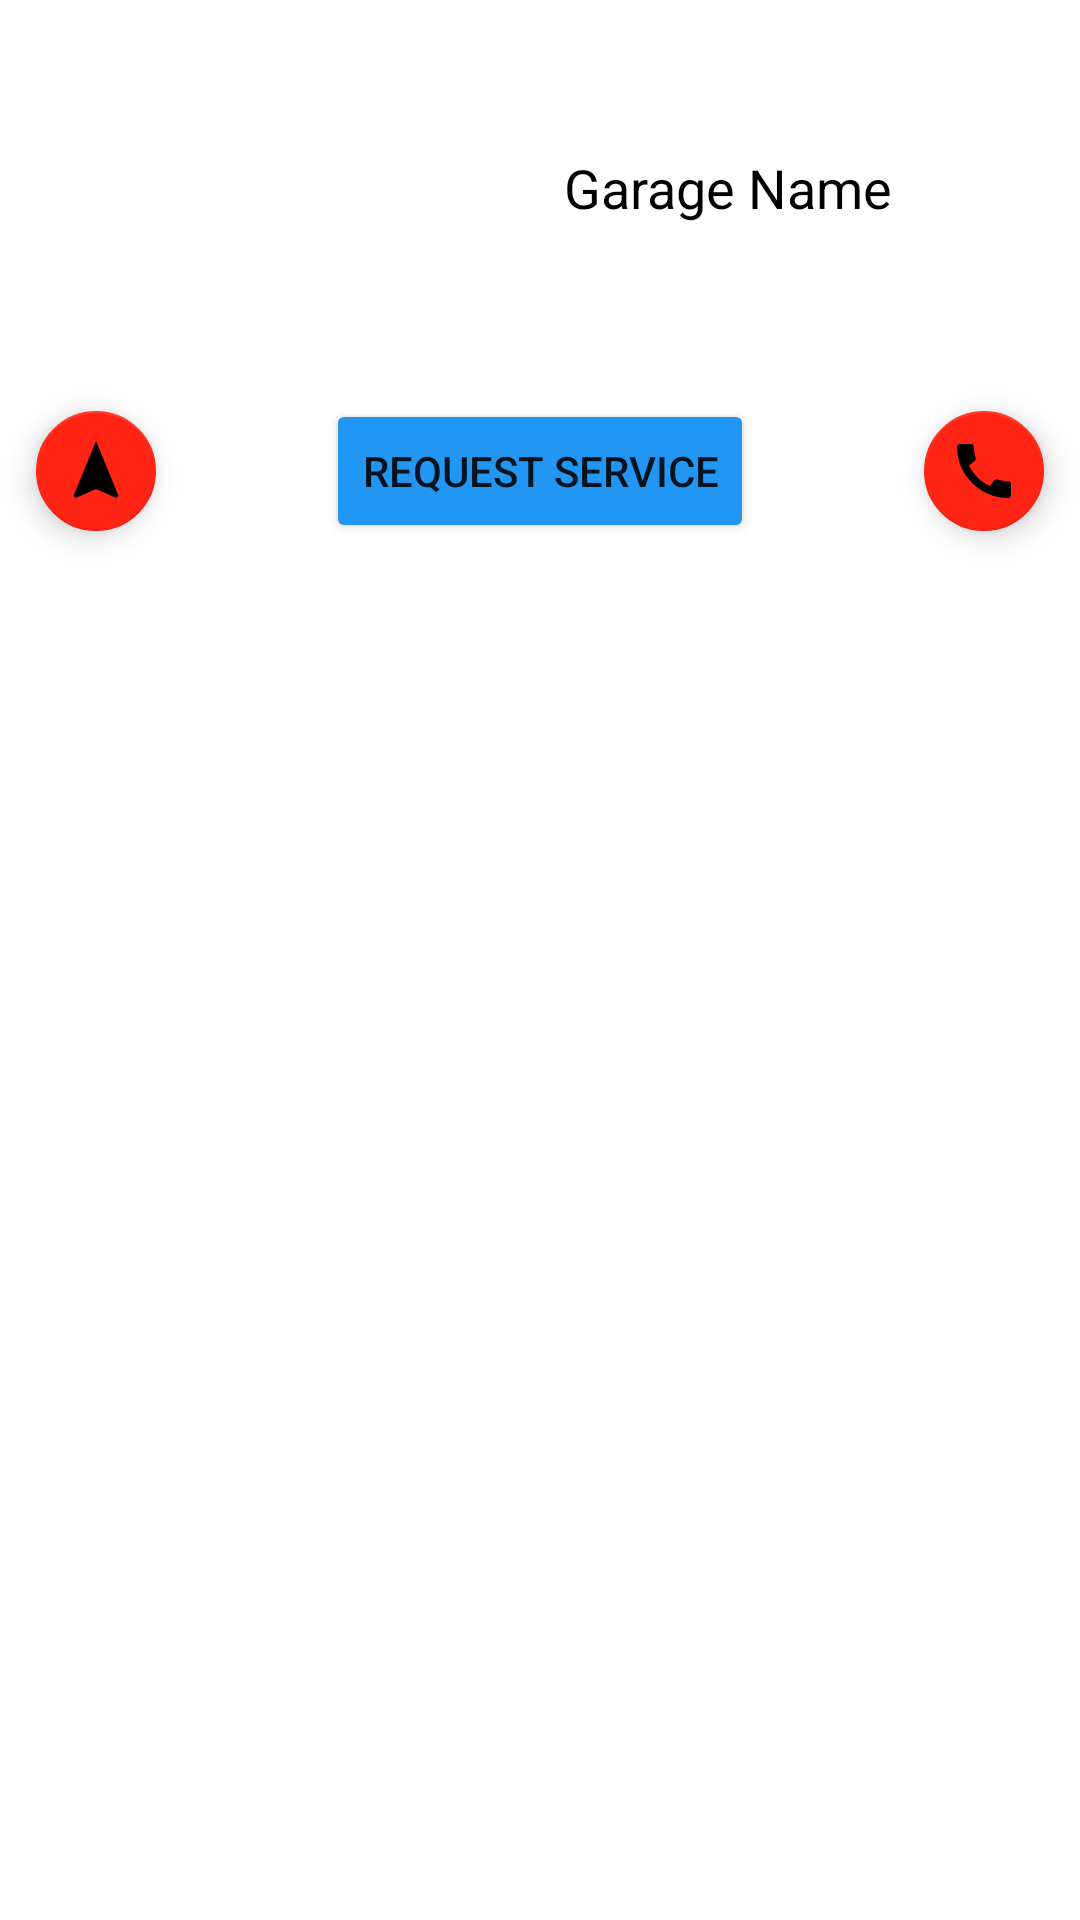

Point at icon controls on the screen. Image size 1080x1920, points as (x,y).
call: (985,472)
navigation: (95,472)
